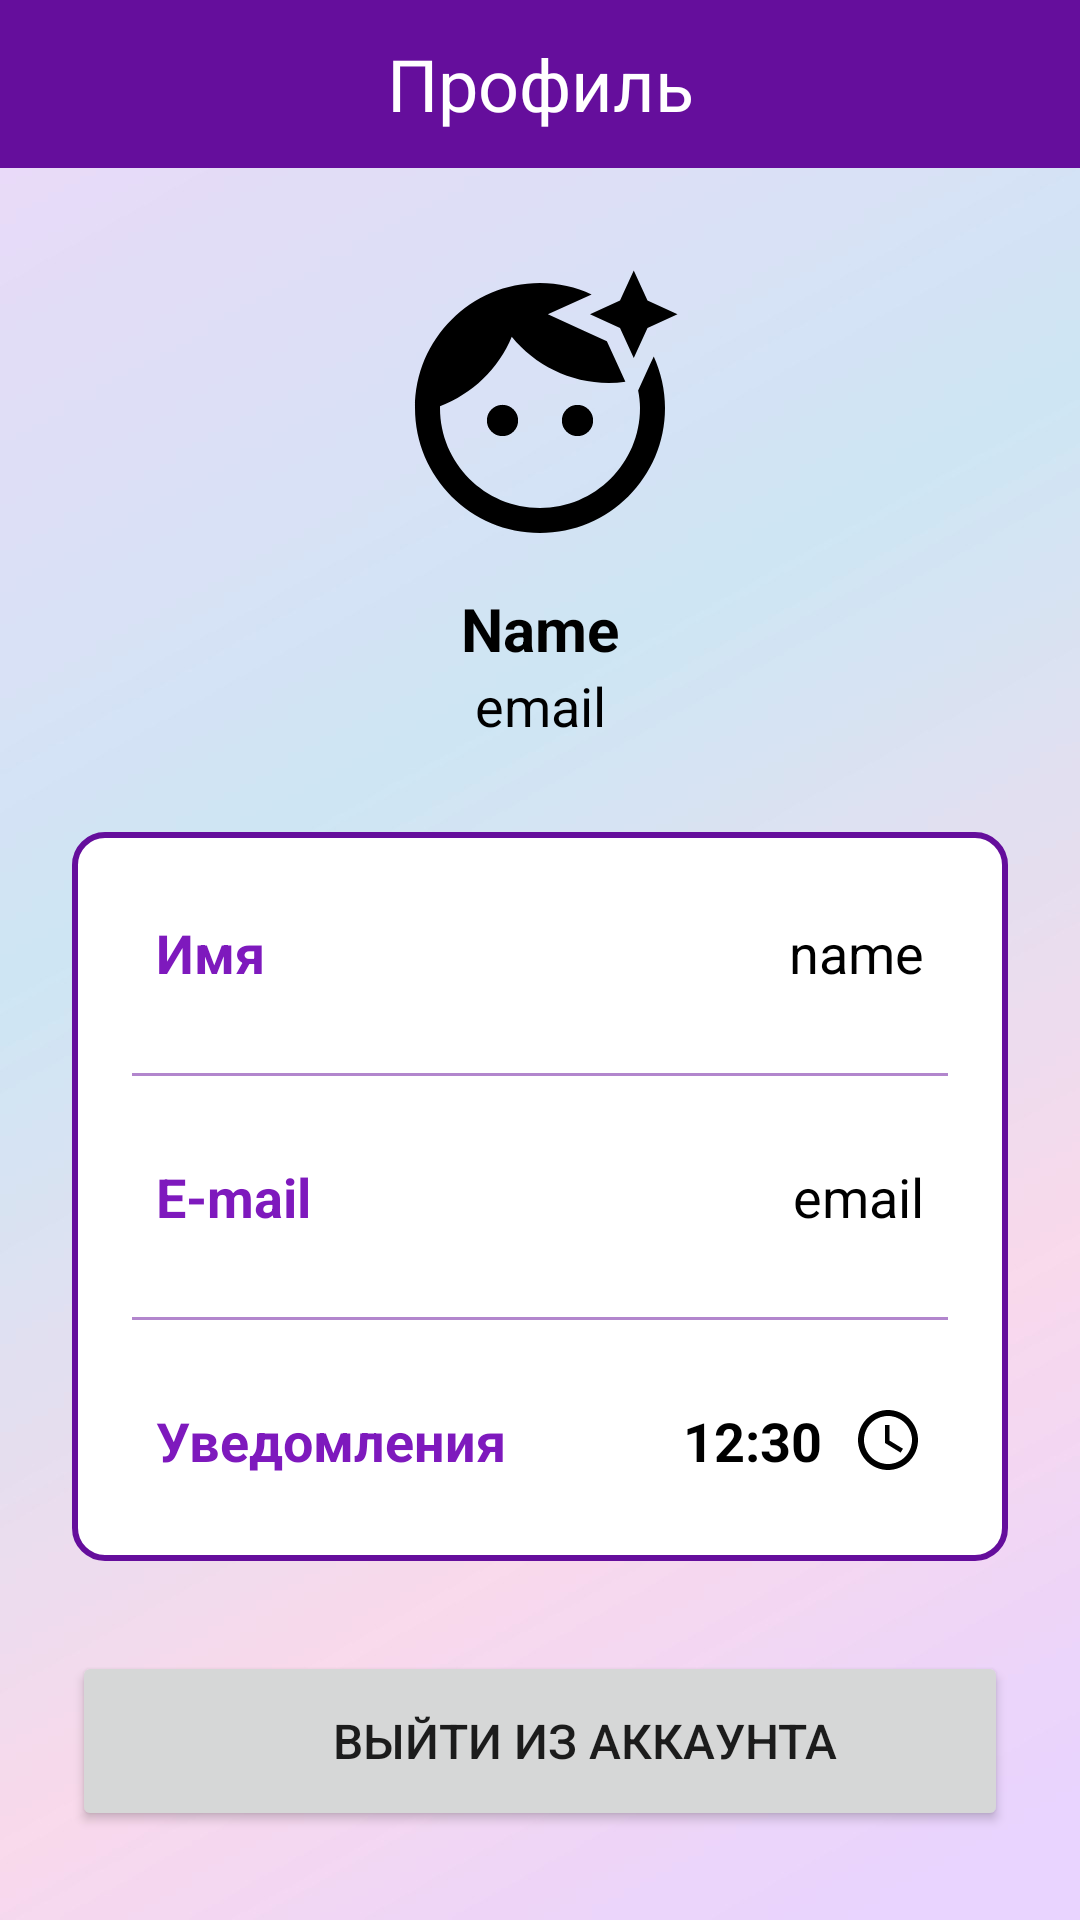

Locate icon controls on the screen. Image size 1080 x 1920, boxes as (x1, y1, x2, y2).
face retouching: (415, 270, 678, 533)
watch later: (858, 1410, 918, 1470)
